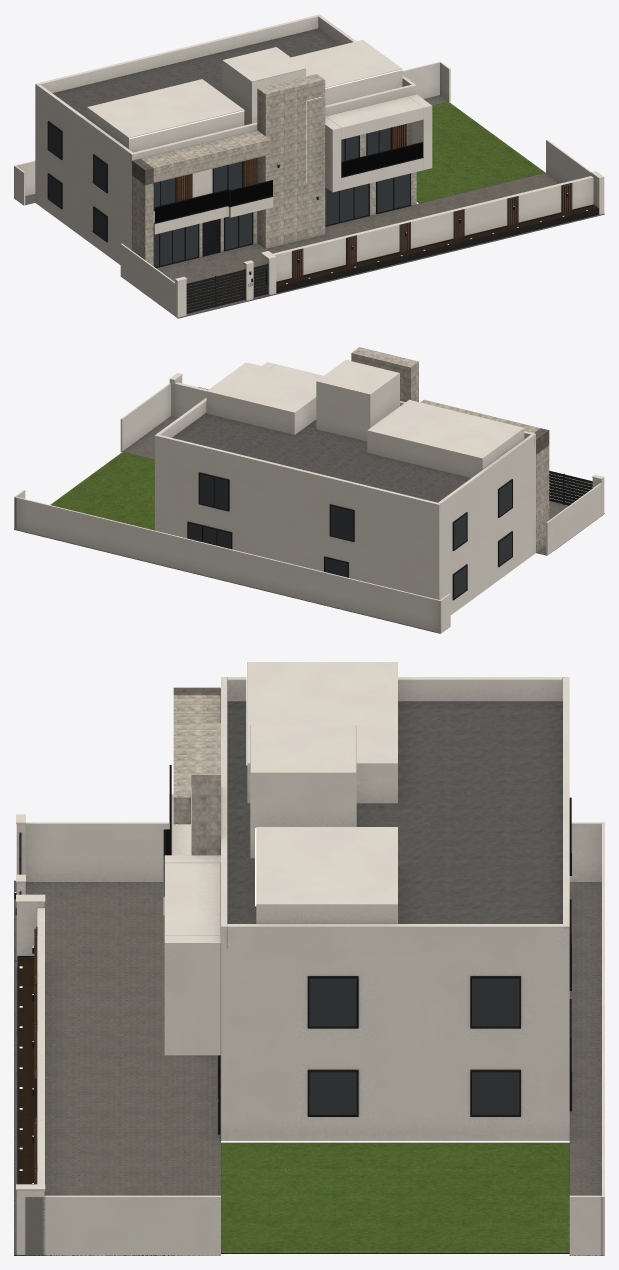
File: house_E.glb
The picture shows the model from 3 angles, top to bottom: view 1: azimuth 30°, elevation 25°; view 2: azimuth 150°, elevation 25°; view 3: azimuth 270°, elevation 25°; orthographic projection. The views are drawn at different scales.
Parts seen in each view (by area): view 1: body, glass, lamp; view 2: body, glass; view 3: body, glass.
Boxes of the visible parts, left/top/right/bottom form: body: left=14, top=14, right=604, bottom=318; glass: left=48, top=123, right=409, bottom=266; lamp: left=129, top=69, right=587, bottom=283; body: left=14, top=347, right=604, bottom=633; glass: left=188, top=474, right=511, bottom=597; body: left=14, top=662, right=604, bottom=1255; glass: left=309, top=978, right=519, bottom=1114.
Size of the model in its own units: 30 by 10.41 by 20.
3 materials, 1 textured.
